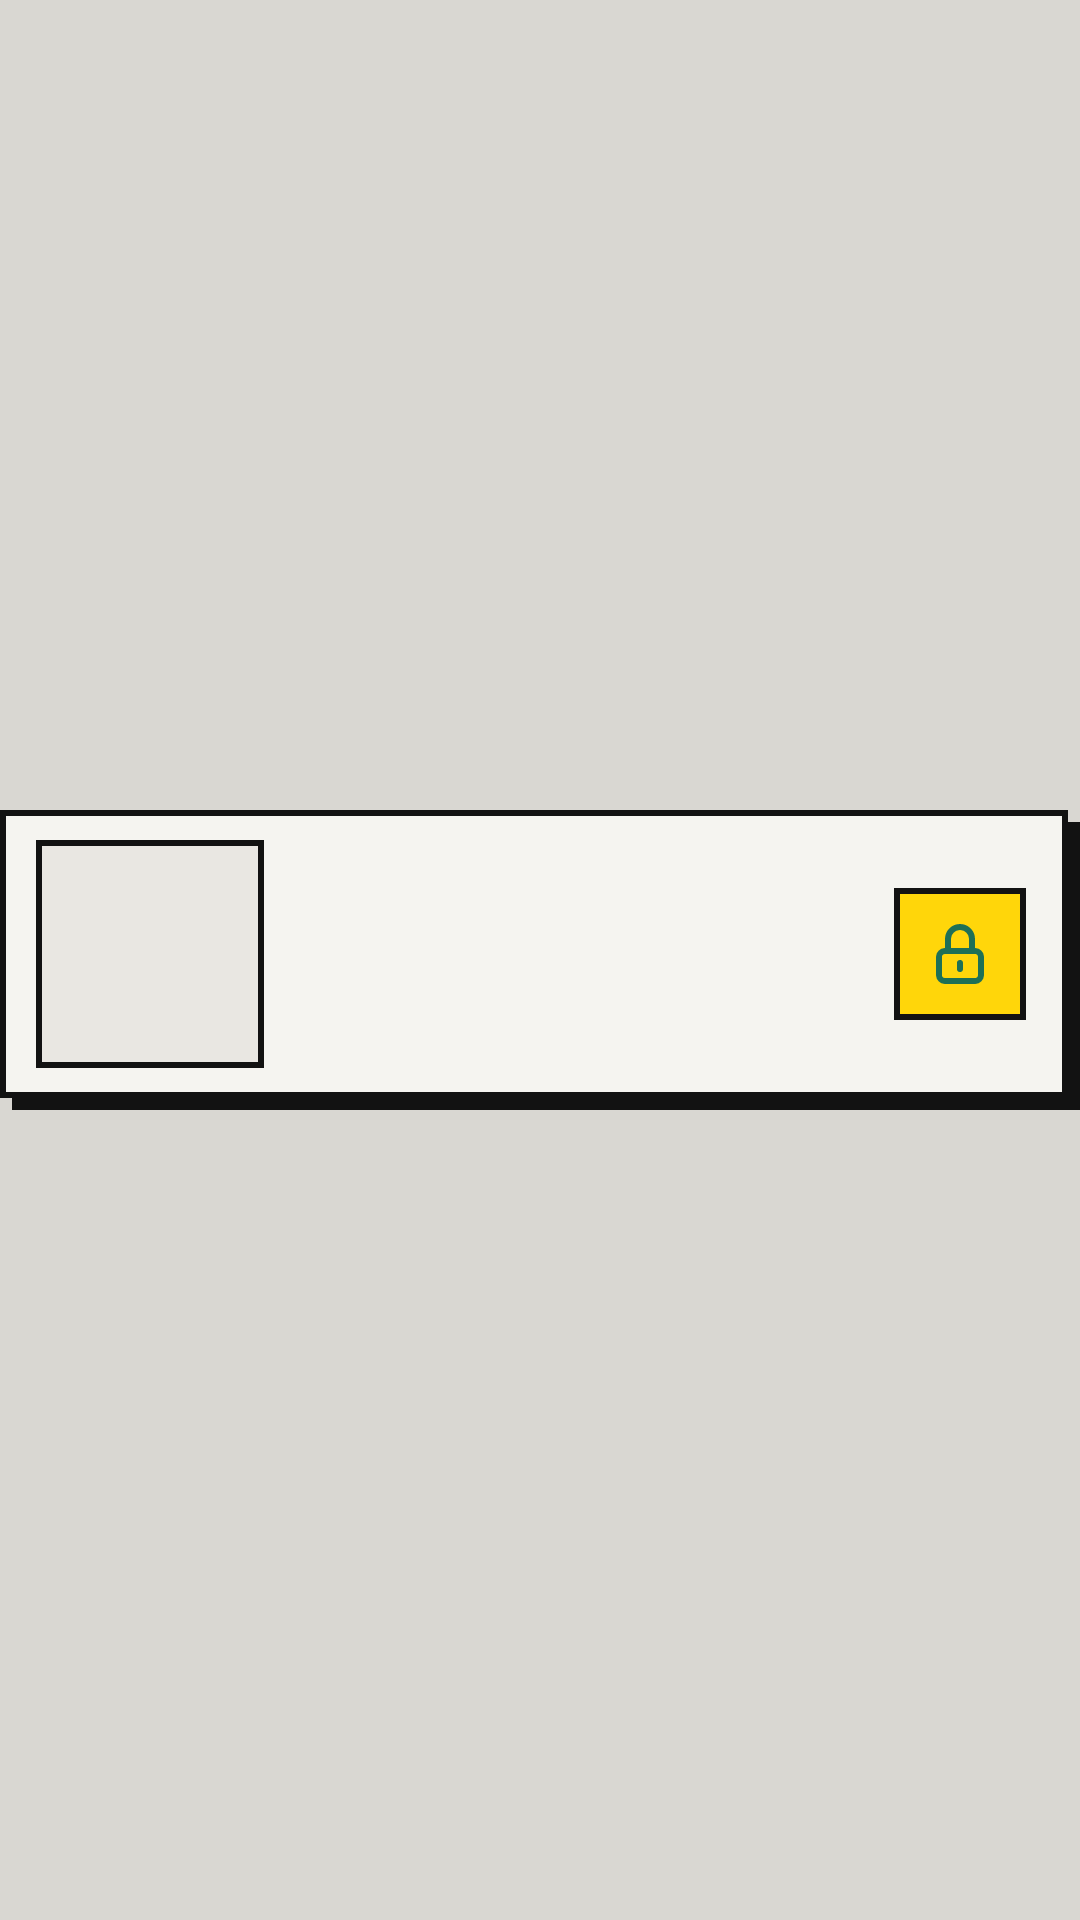

Named icons in this screenshot (1080x1920) and their centers, (x,y):
lock: (960,954)
